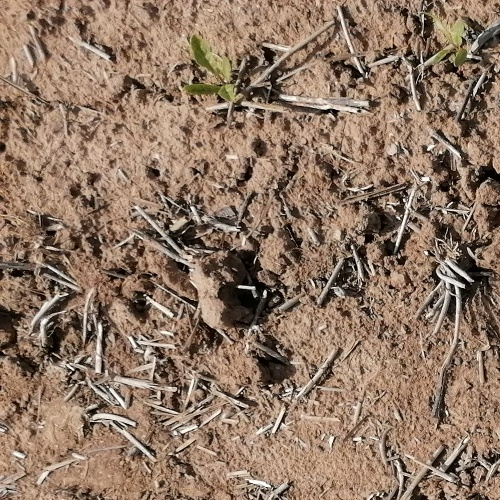beet: (181, 35, 239, 103), (422, 19, 468, 69)
